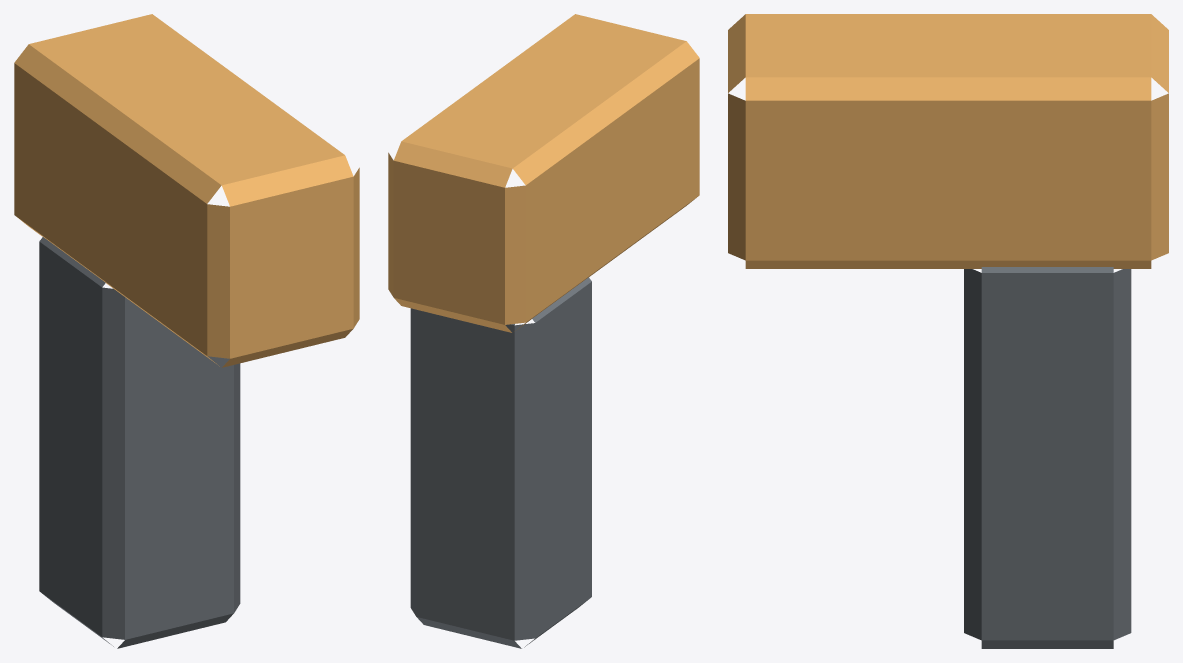
The model's file is thermometer_probe.glb.
3 views of the same model, side by side, from view 1: azimuth 30°, elevation 25°; view 2: azimuth 150°, elevation 25°; view 3: azimuth 270°, elevation 25° (orthographic). The views are drawn at different scales.
Visible parts, largest first — view 1: HousingAccent, ErgonomicGrip; view 2: HousingAccent, ErgonomicGrip; view 3: HousingAccent, ErgonomicGrip.
Part boxes in pixels (x1,y1,x2,y2): HousingAccent: [14, 14, 359, 367]; ErgonomicGrip: [39, 237, 240, 648]; HousingAccent: [388, 14, 699, 332]; ErgonomicGrip: [410, 277, 591, 648]; HousingAccent: [728, 14, 1168, 268]; ErgonomicGrip: [964, 267, 1131, 648].
Size of the model in its own units: 0.084 by 0.288 by 0.2.
